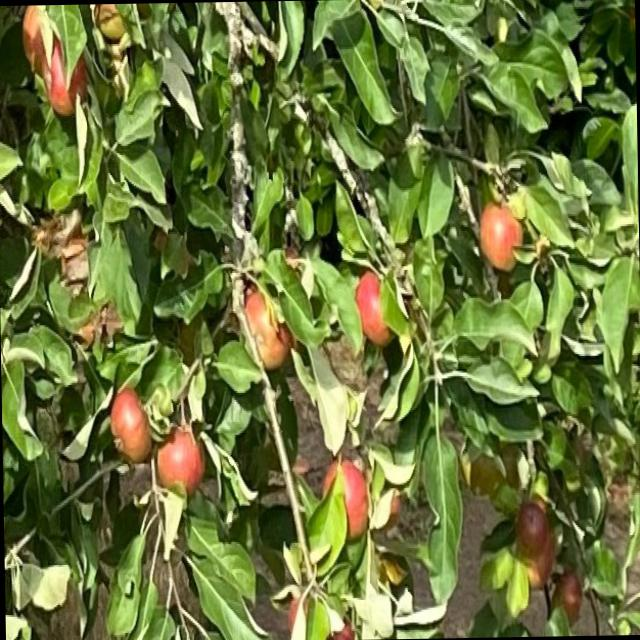Apples: (244, 290, 291, 367), (156, 424, 204, 494), (324, 463, 368, 538), (112, 387, 153, 460), (46, 40, 86, 110), (480, 204, 522, 268), (356, 275, 393, 345), (24, 4, 55, 76), (521, 530, 554, 586), (518, 504, 546, 556), (554, 572, 582, 621), (96, 4, 127, 38), (320, 614, 358, 638)
